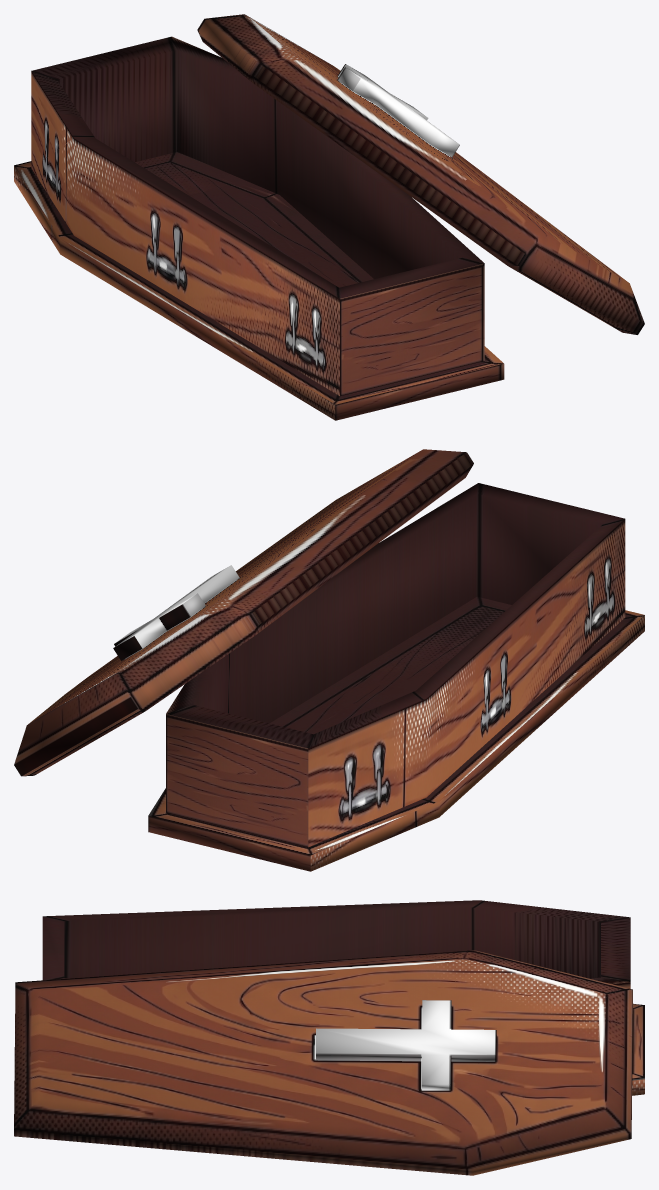
The model's file is Open Coffin.fbx.
3 renders of one model, top to bottom at view 1: azimuth 30°, elevation 25°; view 2: azimuth 150°, elevation 25°; view 3: azimuth 270°, elevation 25°, orthographic. The views are drawn at different scales.
Parts seen in each view (by area): view 1: Open Coffin; view 2: Open Coffin; view 3: Open Coffin.
Part boxes in pixels (<box>): Open Coffin: <box>14,14,644,420</box>; Open Coffin: <box>14,449,644,871</box>; Open Coffin: <box>14,900,644,1175</box>.
Bounding box in the file's own units: 494 × 772 × 204.
Materials: 1 (1 with a texture image).
